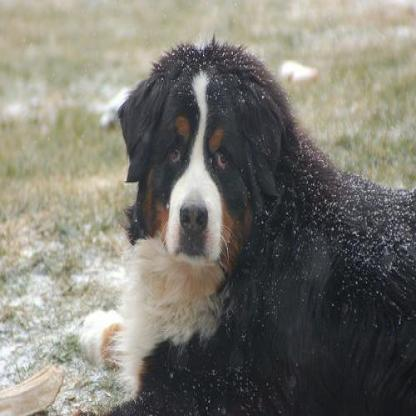Bernese_mountain_dog: (75, 43, 414, 414)
